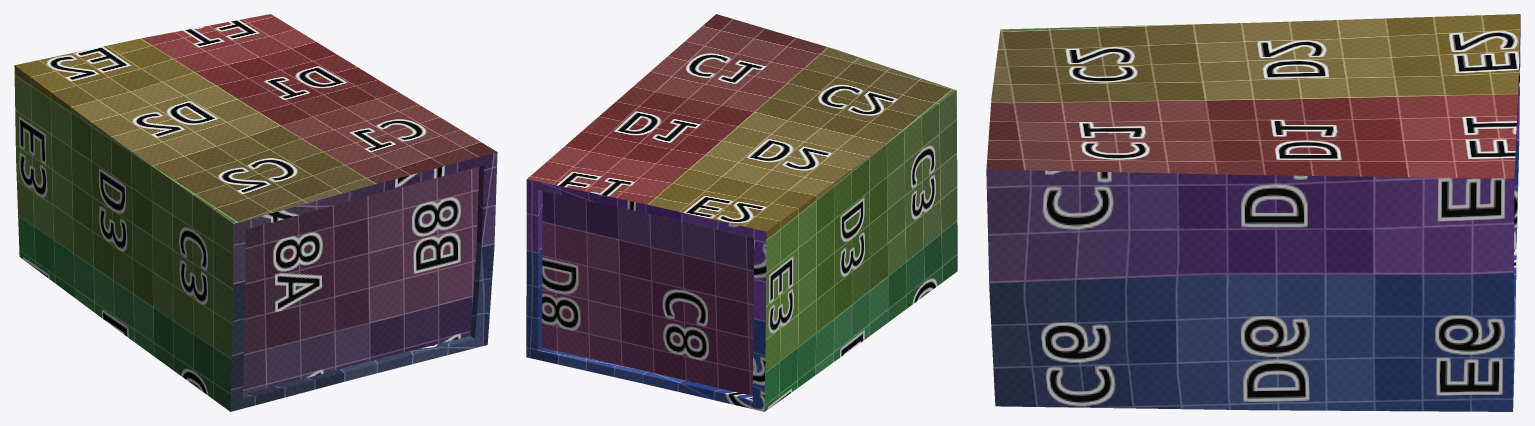
Rendered from smallBox_1953.glb.
The picture shows the model from 3 angles, left to right: view 1: azimuth 30°, elevation 25°; view 2: azimuth 150°, elevation 25°; view 3: azimuth 270°, elevation 25°; orthographic projection. The views are drawn at different scales.
Parts seen in each view (by area): view 1: BOX_SMALL; view 2: BOX_SMALL; view 3: BOX_SMALL.
Part boxes in pixels (bbox=[...]): BOX_SMALL: bbox=[14, 14, 497, 411]; BOX_SMALL: bbox=[526, 14, 957, 411]; BOX_SMALL: bbox=[986, 14, 1520, 411].
Size of the model in its own units: 0.7549 by 0.5431 by 1.05.
Materials: 1 (1 with a texture image).
